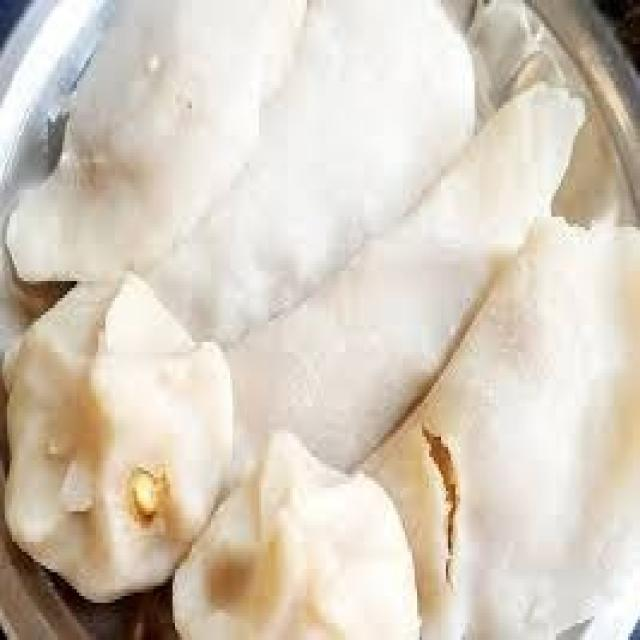poorna kolukattai: (2, 0, 640, 640)
